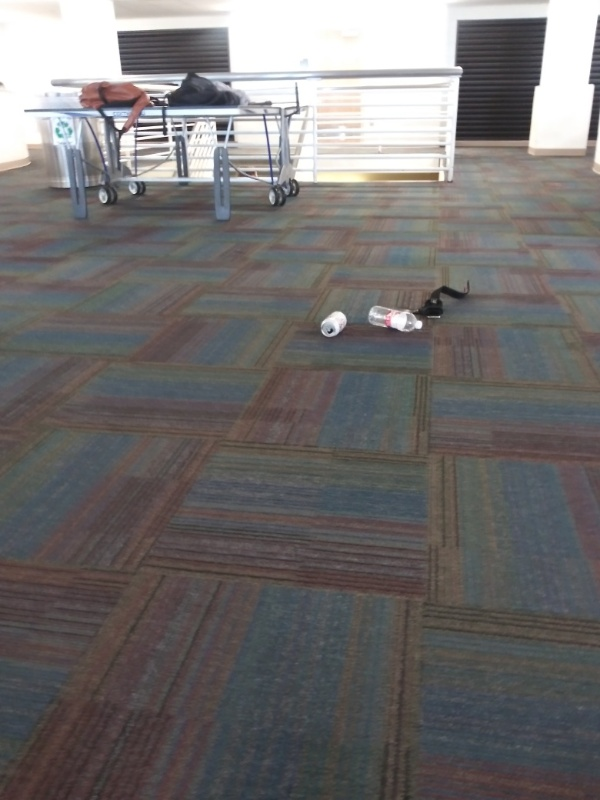bottle: (362, 301, 425, 334)
can: (314, 307, 348, 342)
